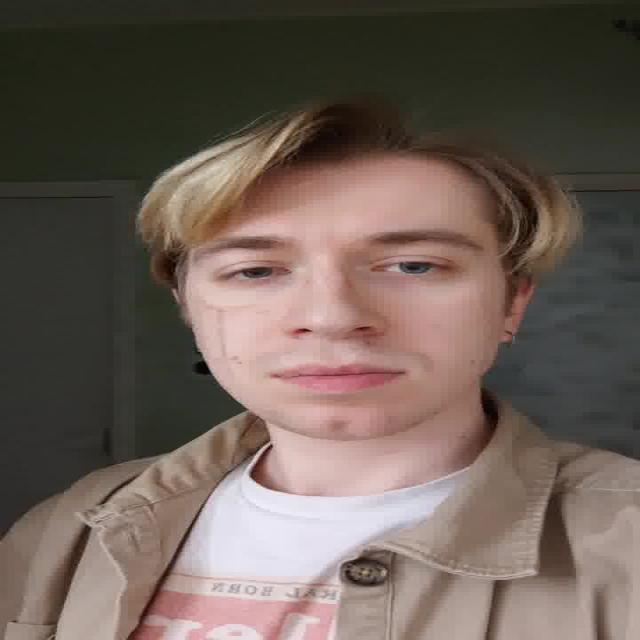earlobe: (497, 312, 523, 344)
eye: (373, 260, 451, 277), (221, 265, 290, 281)
nose: (285, 331, 386, 364)
wholeear: (497, 272, 537, 344)
